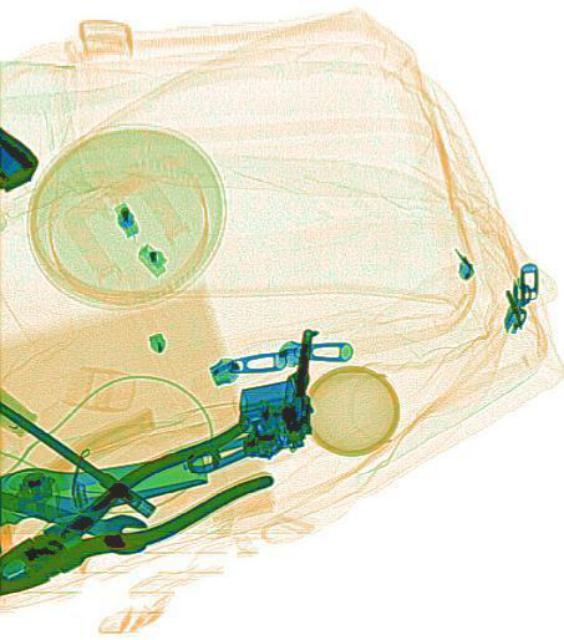Gun: (185, 323, 315, 472)
Pliers: (0, 414, 275, 602)
Wrench: (0, 479, 150, 560)
